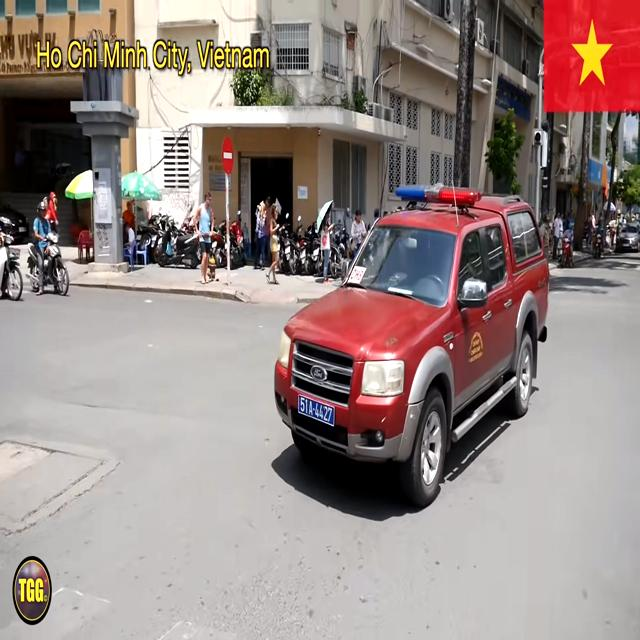emergency-vehicles: (265, 169, 560, 508)
